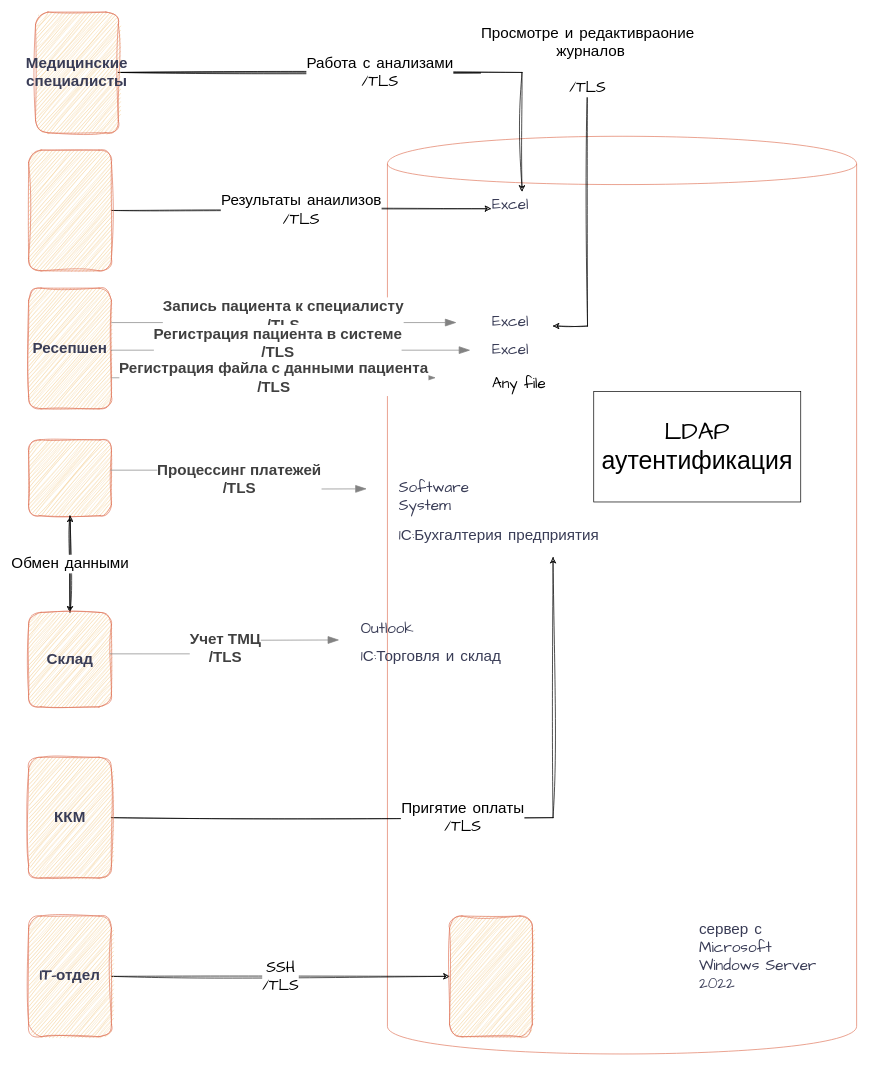
This 869x1066 diagram has some shape labels left out. The shapes that lost their labels are listed below. From the top down, each one's centre as x and y in pixels, then its label:
point (69, 210): Лаборатория
point (69, 477): Бухгалтерия
point (490, 976): Вся информация
